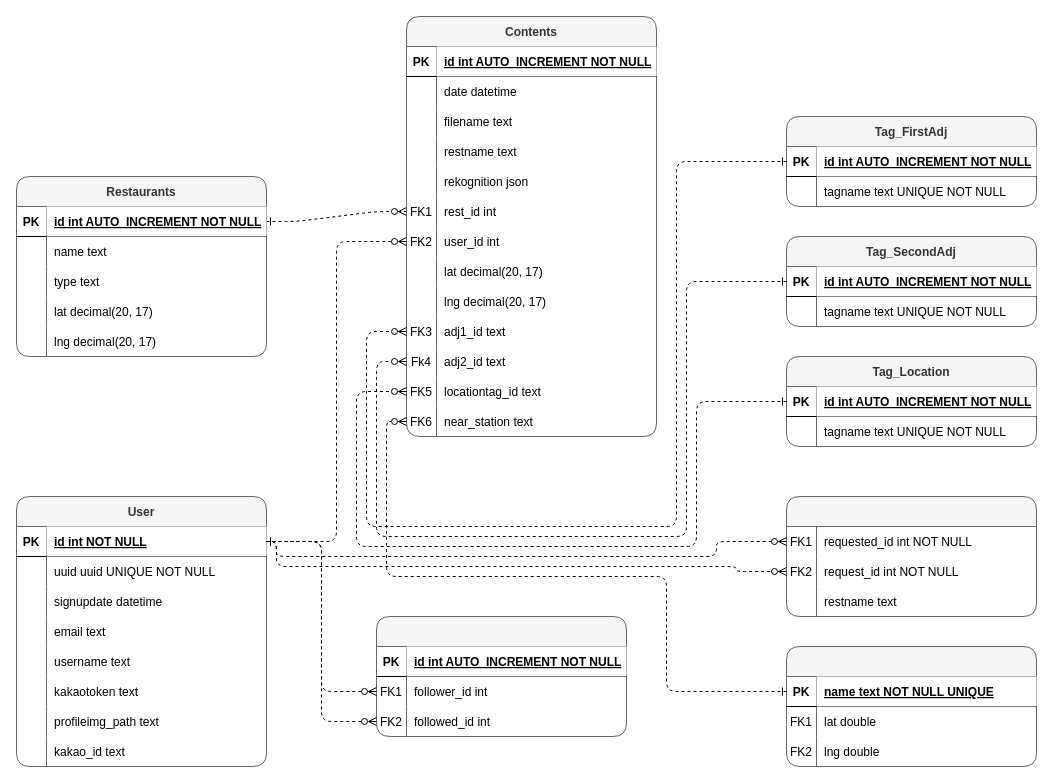
Some shapes in this 1053 by 783 pixel diagram are drawn without their labels. Here are the shapes that lost their labels. From the top down, the box of each, then its label:
(786, 496, 1036, 616): Appointments
(376, 616, 626, 736): Relation
(786, 646, 1036, 766): Stations
